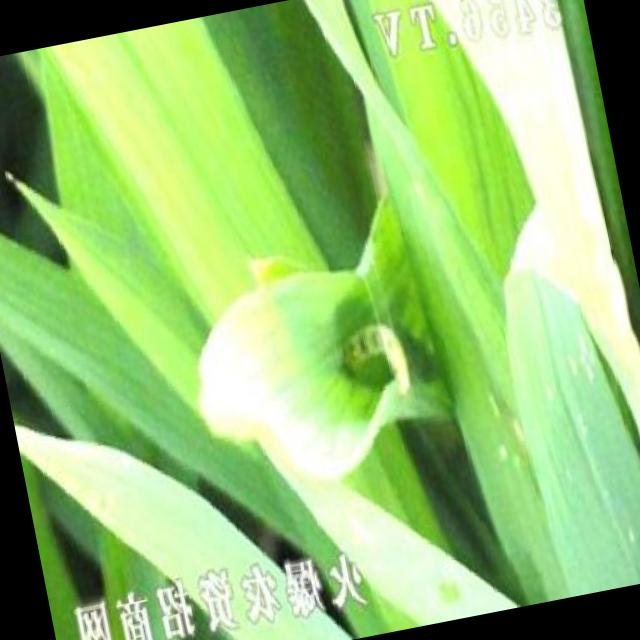leaf-folder: (302, 288, 429, 427)
